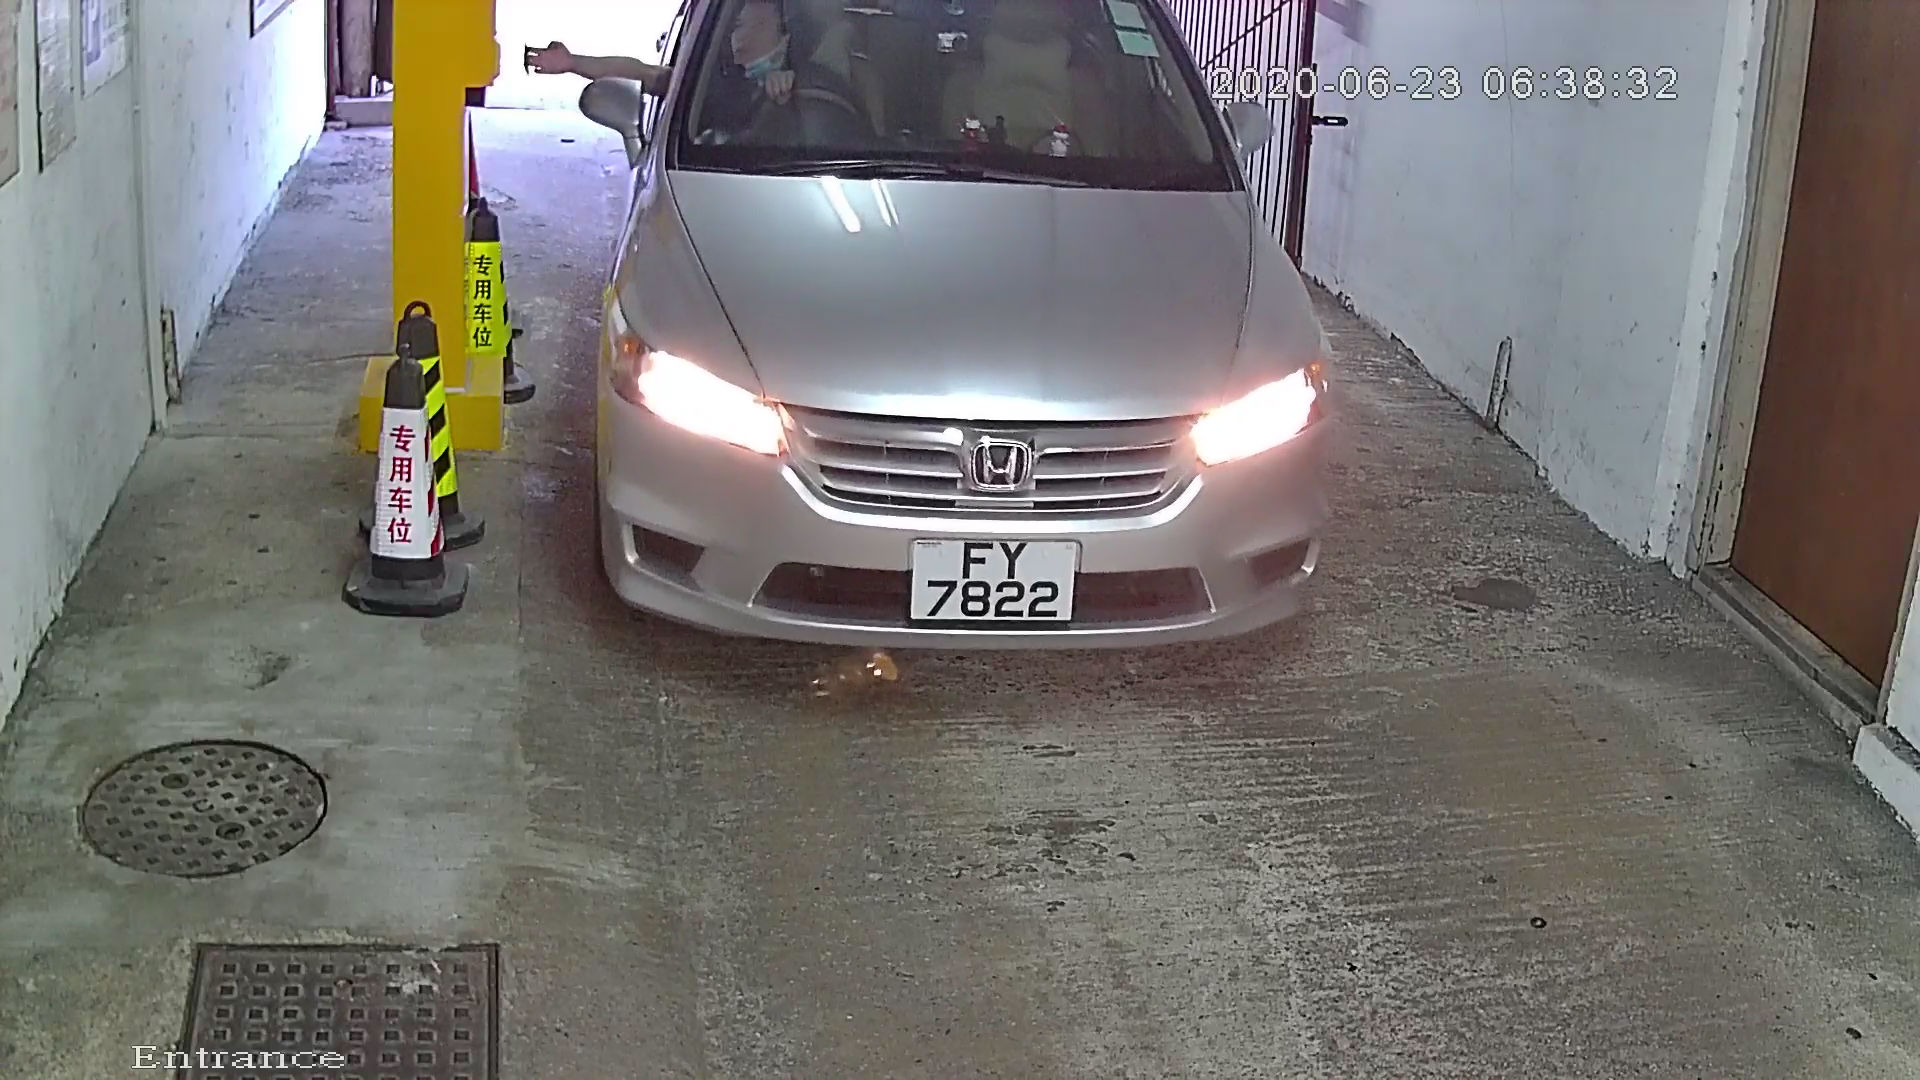privatecar: (545, 1, 1369, 724)
